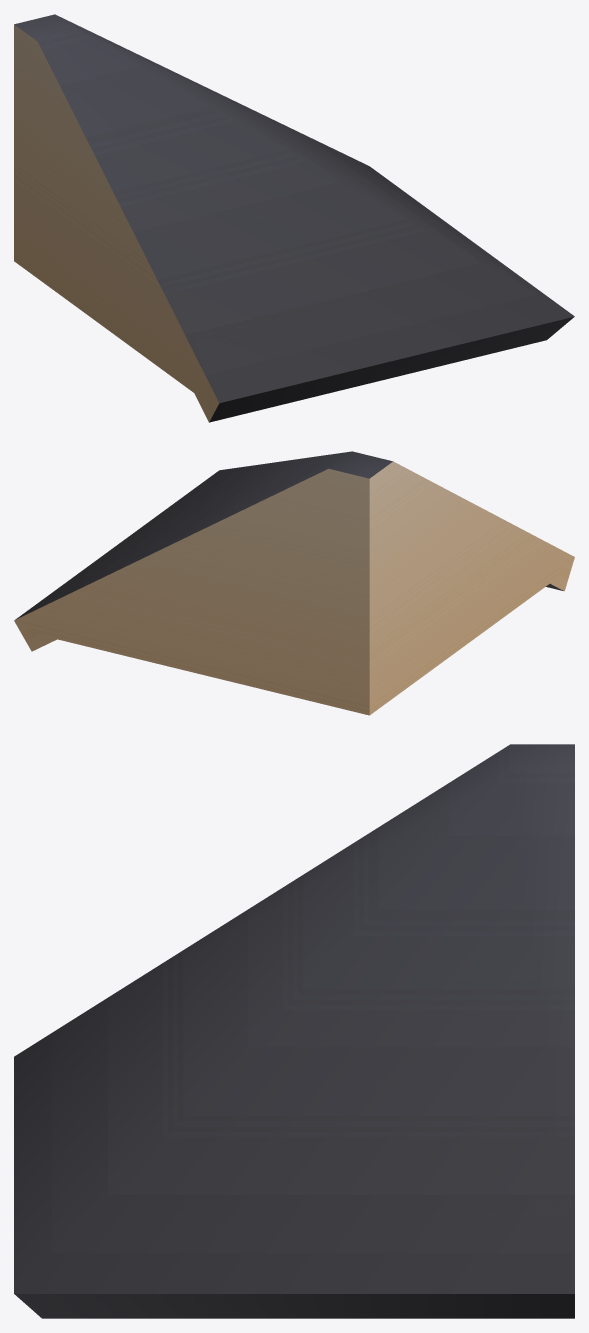
The model's file is roof-slanted-corner-c.glb.
3 views of the same model, one above another, from view 1: azimuth 30°, elevation 25°; view 2: azimuth 150°, elevation 25°; view 3: azimuth 270°, elevation 25° (orthographic). The views are drawn at different scales.
Visible parts, largest first — view 1: roof-slanted-corner-c; view 2: roof-slanted-corner-c; view 3: roof-slanted-corner-c.
Part boxes in pixels (left/top/right/bottom): roof-slanted-corner-c: left=14, top=14, right=574, bottom=422; roof-slanted-corner-c: left=14, top=451, right=574, bottom=715; roof-slanted-corner-c: left=14, top=744, right=574, bottom=1318.
Bounding box in the file's own units: 1.14 × 0.782 × 1.14.
1 material, 1 textured.
